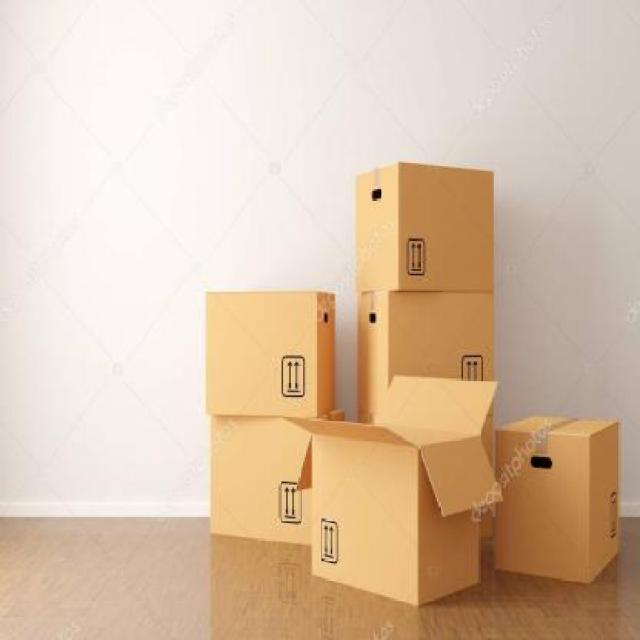box: (293, 381, 492, 605), (493, 412, 625, 585), (207, 406, 347, 547), (360, 152, 497, 296), (357, 293, 500, 429), (203, 286, 335, 417)
